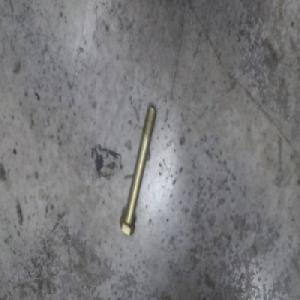Bolt: (119, 97, 158, 237)
